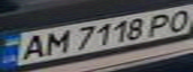1: (109, 18, 133, 43), (93, 20, 115, 47)
7: (72, 24, 96, 52)
8: (124, 15, 151, 40)
A: (12, 33, 51, 62)
M: (36, 28, 72, 56)
O: (163, 7, 193, 33)
P: (142, 11, 178, 37)
